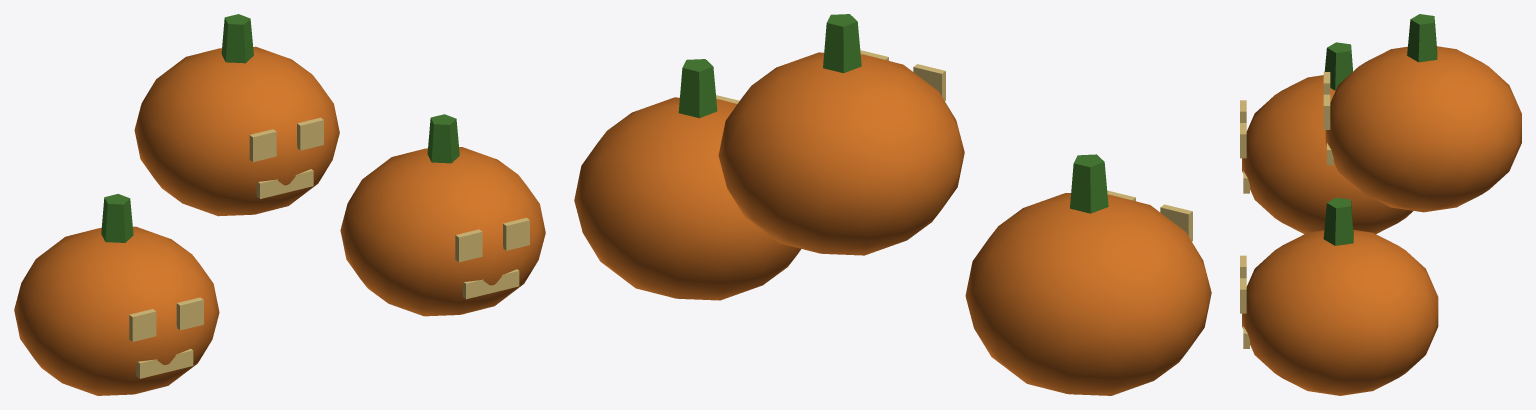
The model's file is pumpkin_lanterns.glb.
The picture shows the model from 3 angles, left to right: view 1: azimuth 30°, elevation 25°; view 2: azimuth 150°, elevation 25°; view 3: azimuth 270°, elevation 25°; orthographic projection. The views are drawn at different scales.
Parts seen in each view (by area): view 1: decor-pumpkin_lanterns; view 2: decor-pumpkin_lanterns; view 3: decor-pumpkin_lanterns.
Part boxes in pixels (box(x1,y1,x2,y2)): decor-pumpkin_lanterns: box(14, 14, 545, 395); decor-pumpkin_lanterns: box(574, 14, 1211, 395); decor-pumpkin_lanterns: box(1240, 14, 1521, 395).
Bounding box in the file's own units: 1.69 × 0.9451 × 0.844.
